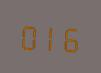one: (40, 19, 60, 53)
six: (61, 20, 81, 54)
zero: (18, 18, 38, 52)
